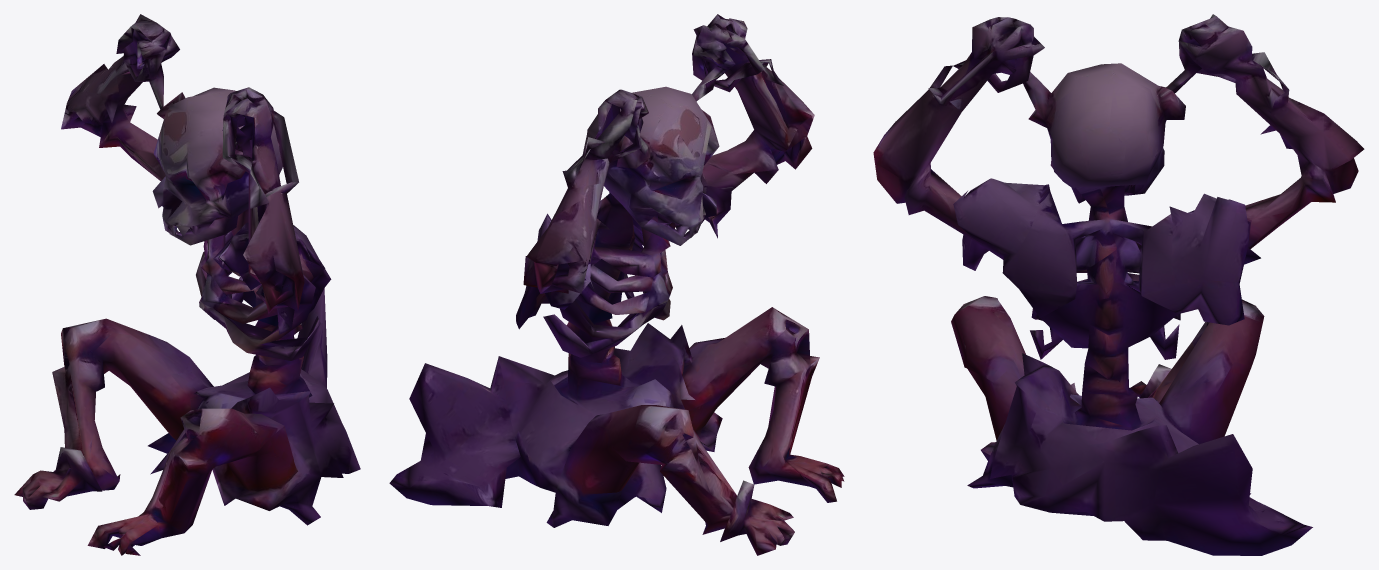
Rendered from chained-skeleton.glb.
3 renders of one model, left to right at view 1: azimuth 30°, elevation 25°; view 2: azimuth 150°, elevation 25°; view 3: azimuth 270°, elevation 25°, orthographic. The views are drawn at different scales.
Parts seen in each view (by area): view 1: tripo_node_ab37ab5e-73a7-41a0-b33c-85b487d63f55; view 2: tripo_node_ab37ab5e-73a7-41a0-b33c-85b487d63f55; view 3: tripo_node_ab37ab5e-73a7-41a0-b33c-85b487d63f55.
Part boxes in pixels (x1,y1,x2,y2): tripo_node_ab37ab5e-73a7-41a0-b33c-85b487d63f55: (14, 14, 360, 555); tripo_node_ab37ab5e-73a7-41a0-b33c-85b487d63f55: (389, 14, 844, 555); tripo_node_ab37ab5e-73a7-41a0-b33c-85b487d63f55: (873, 14, 1364, 555).
Size of the model in its own units: 0.8023 by 0.9993 by 0.9665.
Materials: 1 (1 with a texture image).
